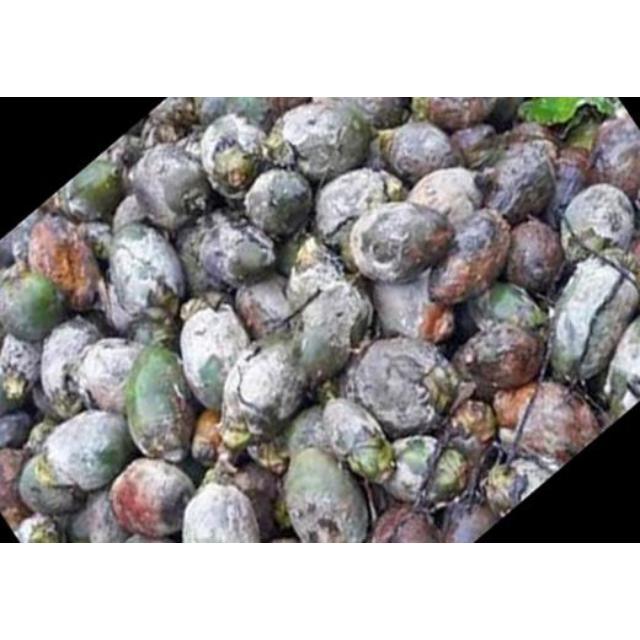damaged: (546, 258, 638, 384), (220, 342, 308, 444), (348, 201, 450, 283), (358, 342, 450, 432), (282, 448, 368, 542), (428, 210, 512, 306), (506, 382, 600, 466), (292, 281, 371, 379), (278, 102, 372, 184), (42, 411, 134, 494), (108, 223, 186, 319), (29, 215, 105, 311), (179, 306, 249, 408), (130, 143, 210, 230), (312, 168, 398, 246), (454, 320, 544, 394), (479, 140, 557, 224), (37, 319, 104, 415), (196, 214, 278, 288), (198, 113, 270, 197), (321, 397, 393, 481), (559, 183, 635, 259), (376, 120, 458, 186), (283, 240, 355, 314), (75, 338, 141, 416), (180, 482, 264, 542), (370, 276, 442, 342), (378, 437, 447, 505), (406, 167, 484, 227), (242, 170, 310, 238), (488, 455, 562, 517), (467, 282, 548, 336), (588, 116, 640, 200), (506, 220, 564, 292), (62, 157, 125, 221), (17, 454, 79, 516), (233, 280, 294, 338), (1, 332, 42, 410), (176, 225, 218, 298), (76, 492, 130, 542), (370, 503, 438, 542), (0, 448, 30, 516), (346, 97, 409, 129)
